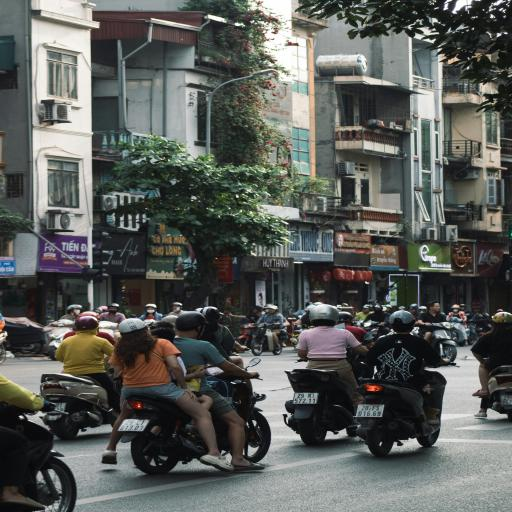place: (122, 419, 146, 431), (359, 405, 381, 418), (294, 392, 316, 404)
